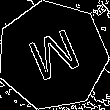M_SE: (21, 23, 84, 88)
